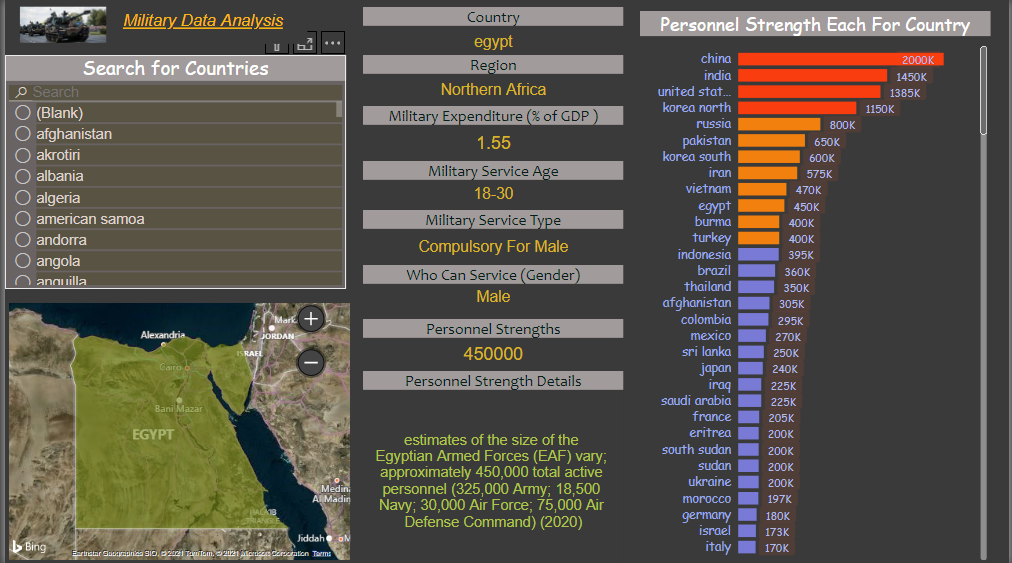

This screenshot's page, from the dashboard's own definition file:
{"tool":"powerbi","page":{"name":"Report","canvas":[1280,720],"ordinal":0},"visuals":[{"type":"slicer","title":"Search  for Countries","fields":{"Values":["Cleaned.country"]},"box":[0,69.9,434.8,297.8],"z":0},{"type":"card","title":"Region","fields":{"Values":["Min(Cleaned.Location)"]},"box":[456.3,70.1,331.7,65.4],"z":1000},{"type":"card","title":"Military Expenditure (% of GDP )","fields":{"Values":["Min(Cleaned.avg_exp)"]},"box":[456.3,135.5,331.7,70.1],"z":2000},{"type":"card","title":"Personnel Strengths","fields":{"Values":["Sum(Cleaned.Personnel_Strengths)"]},"box":[456.3,406.4,331.7,67],"z":3000},{"type":"card","title":"Military Service Age","fields":{"Values":["Min(Cleaned.military service age)"]},"box":[456.3,205.5,331.7,62.3],"z":4000},{"type":"card","title":"Military Service Type","fields":{"Values":["Min(Cleaned.military_service_obligation)"]},"box":[456.3,267.8,331.7,70.1],"z":5000},{"type":"card","title":"Who Can Service (Gender)","fields":{"Values":["Min(Cleaned.Who Can Serve )"]},"box":[456.3,337.9,331.7,59.2],"z":6000},{"type":"filledMap","title":"Country Boundaries","fields":{"Category":["Cleaned.country"]},"box":[0,381.5,445.4,337.9],"z":7000},{"type":"clusteredBarChart","title":"Personnel Strength Each For Country","fields":{"Category":["Cleaned.country"],"Y":["Sum(Cleaned.Personnel_Strengths)"]},"box":[809.7,14,446.9,705.4],"z":8000},{"type":"card","title":"Personnel Strength Details","fields":{"Values":["Min(Cleaned.military_and_security_service_personnel_strengths)"]},"box":[456.3,473.4,331.7,246],"z":9000},{"type":"textbox","box":[144.8,9.3,239.8,46.7],"z":10000},{"type":"image","box":[14,3.1,119.9,57.6],"z":11000},{"type":"card","title":"Country","fields":{"Values":["Min(Cleaned.country)"]},"box":[456.3,9.3,331.7,65.4],"z":12000}]}

Visuals, with their boxes in screenshot pixels (x1, y1, x2, y2), scaled from the page's 1280x720 canvas onto the 1012x563 screenshot:
"Search  for Countries" slicer: 0:55:344:288
"Region" card: 361:55:623:106
"Military Expenditure (% of GDP )" card: 361:106:623:161
"Personnel Strengths" card: 361:318:623:370
"Military Service Age" card: 361:161:623:209
"Military Service Type" card: 361:209:623:264
"Who Can Service (Gender)" card: 361:264:623:311
"Country Boundaries" filledMap: 0:298:352:562
"Personnel Strength Each For Country" clusteredBarChart: 640:11:993:562
"Personnel Strength Details" card: 361:370:623:562
textbox: 114:7:304:44
image: 11:2:106:47
"Country" card: 361:7:623:58
